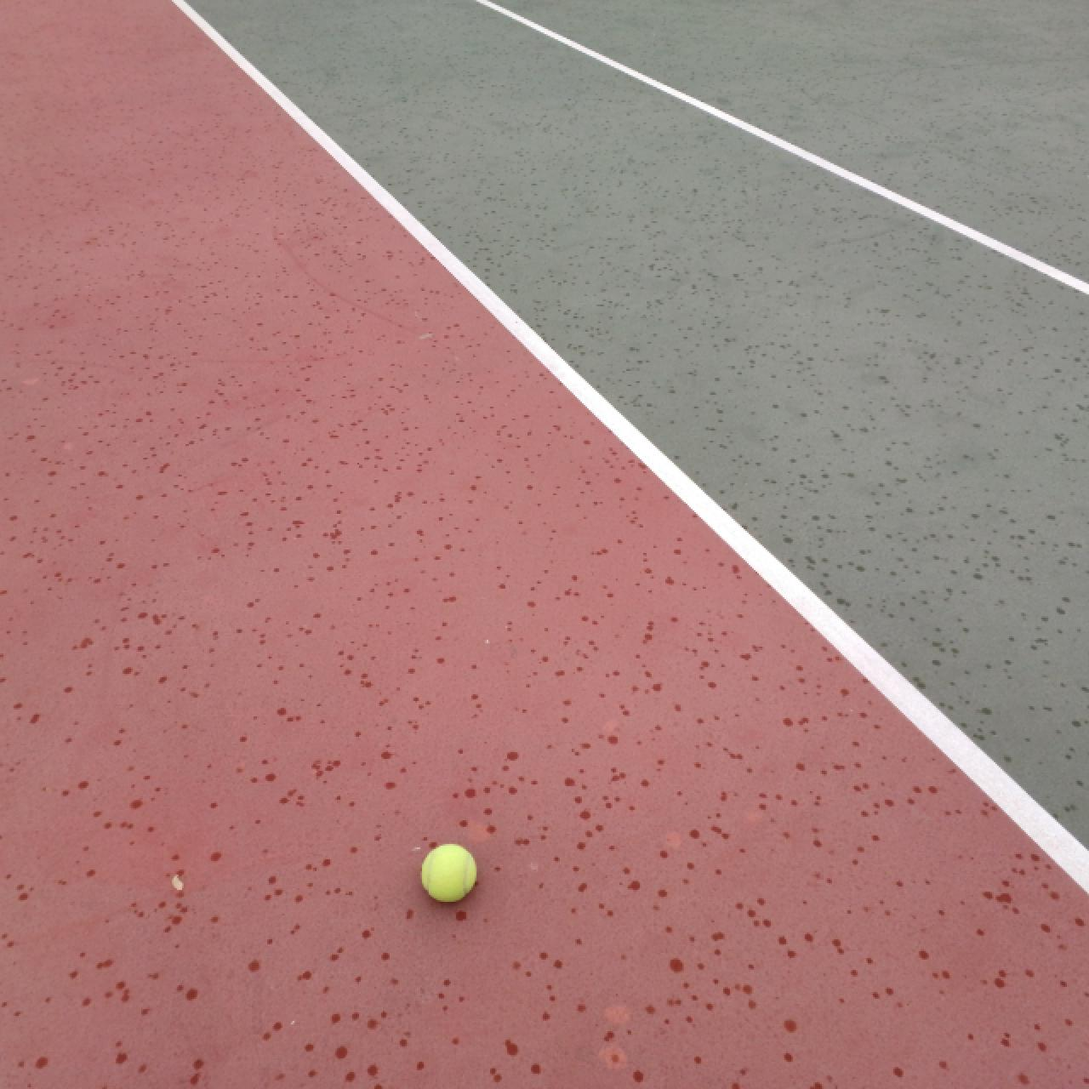tennis-ball: (422, 842, 478, 903)
